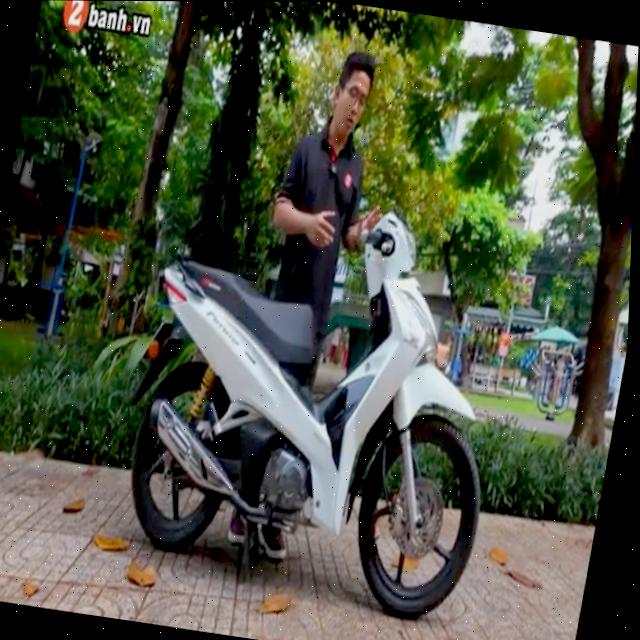motorcycle: (99, 173, 540, 630)
